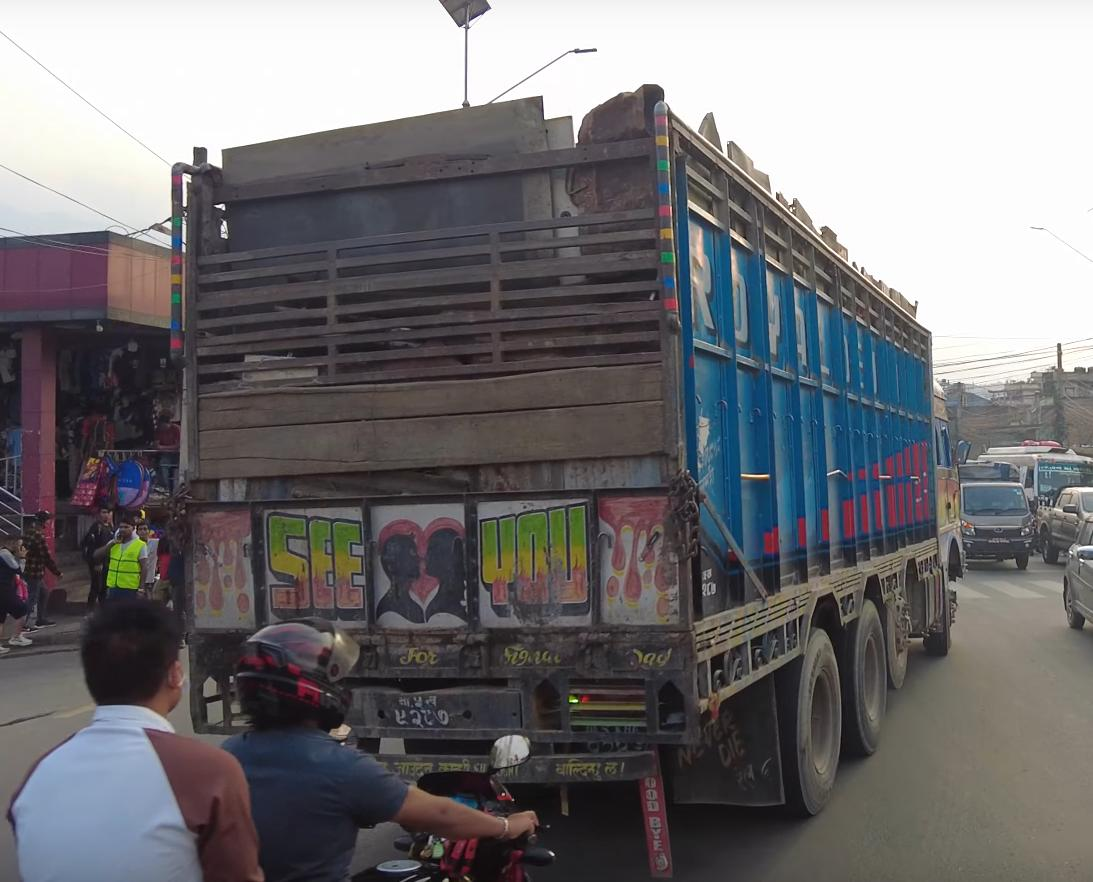car: (1059, 508, 1093, 634)
truck: (168, 82, 966, 819)
